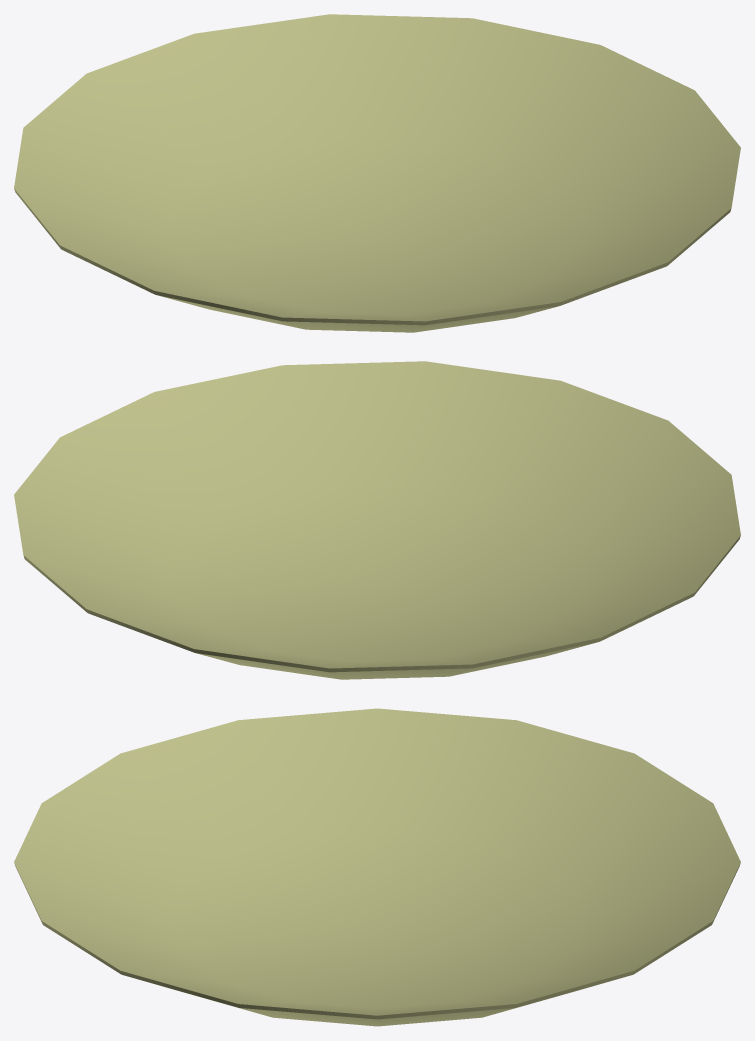
The model's file is plate.fbx.
3 renders of one model, top to bottom at view 1: azimuth 30°, elevation 25°; view 2: azimuth 150°, elevation 25°; view 3: azimuth 270°, elevation 25°, orthographic.
Visible parts, largest first — view 1: plate; view 2: plate; view 3: plate.
Part boxes in pixels (x1=…): plate: x1=14, y1=14, x2=740, y2=332; plate: x1=14, y1=361, x2=740, y2=679; plate: x1=14, y1=708, x2=740, y2=1026.
Bounding box in the file's own units: 7.62 × 7.62 × 0.9386.
